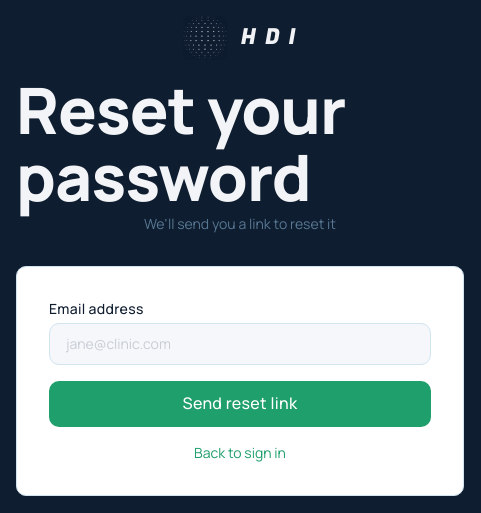
Scenario: ForgotPassword page › shows 'Sending...' and disables button while loading
Type "user@clinic.com" into the field with placeholder "jane@clinic.com" at (240, 344), box [49,323,431,365]
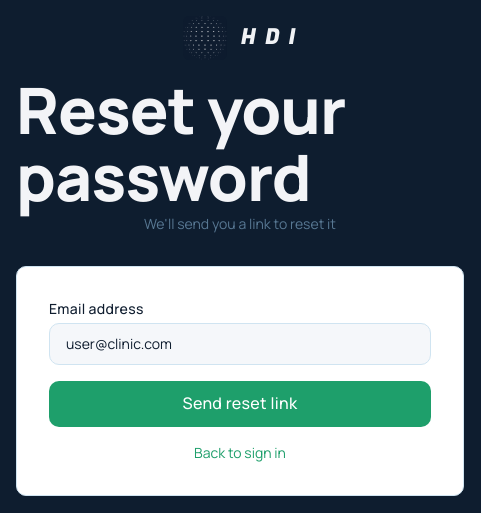
Click the button "Send reset link" at (240, 404), box [49,381,431,427]
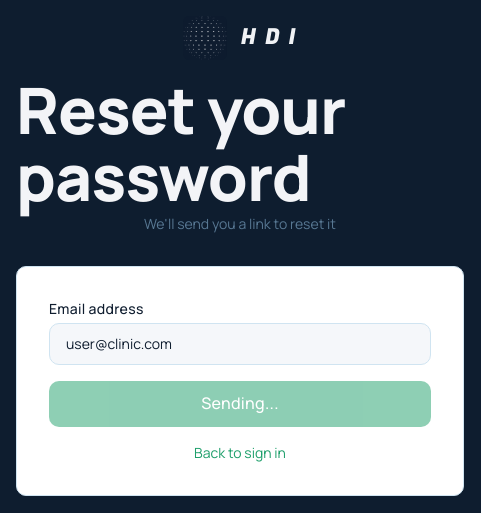
Expected: the button "Sending..." is disabled, [49,381,431,427]
